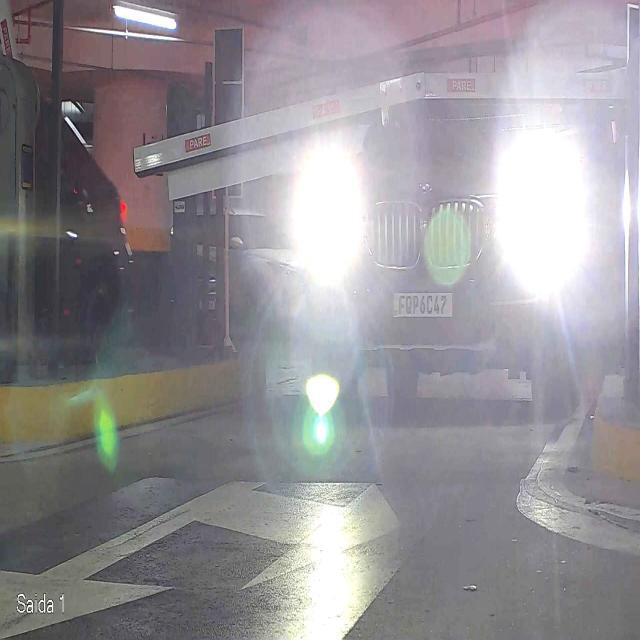mercosul_plate: (390, 286, 456, 319)
